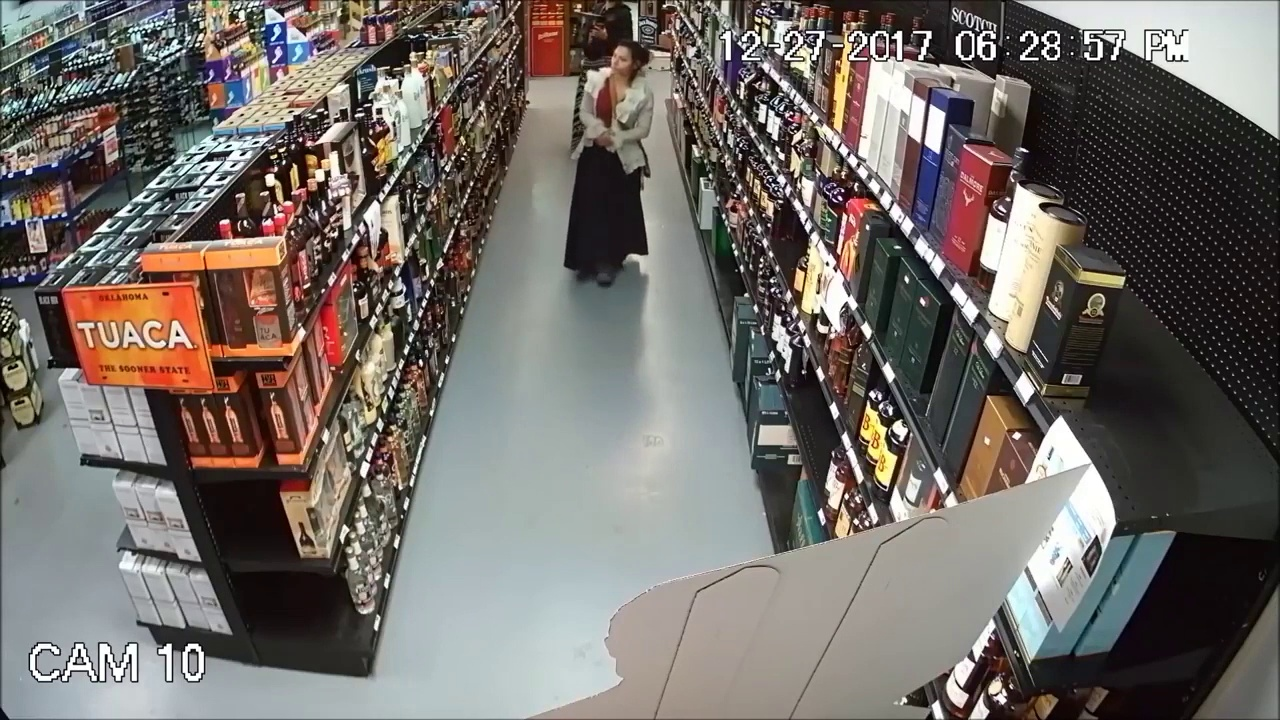face: (605, 45, 640, 81)
